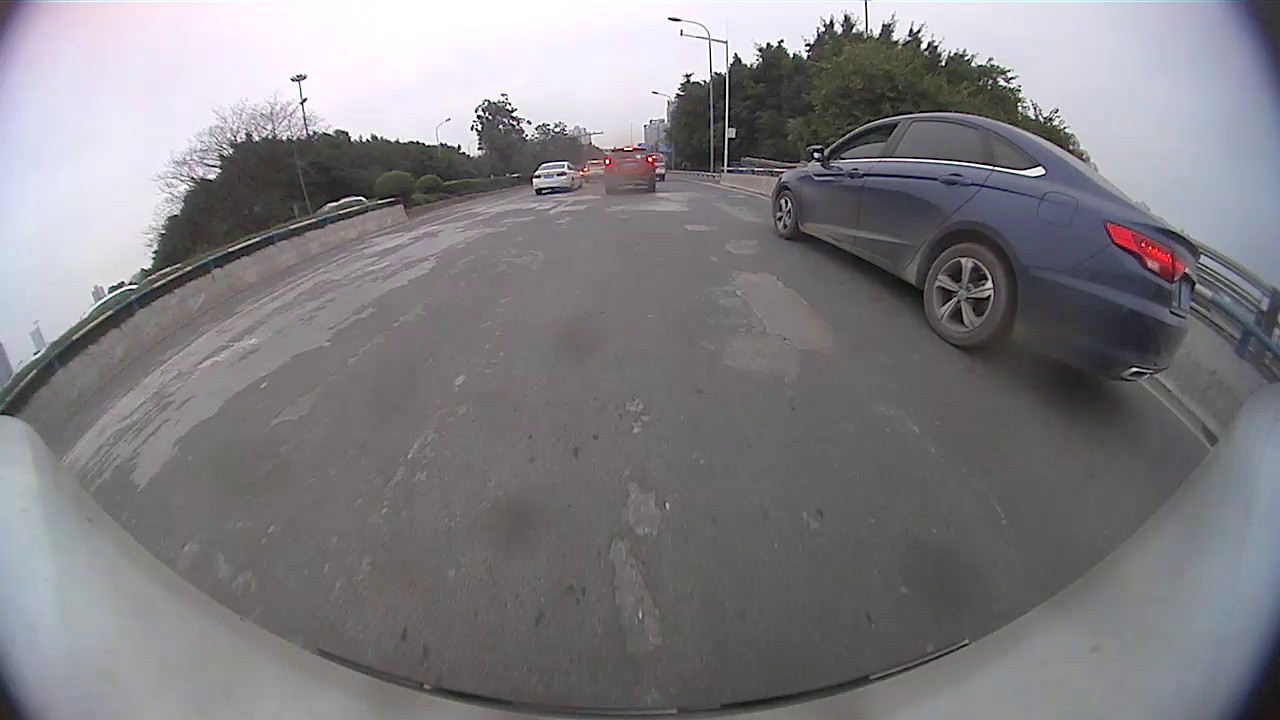car: (770, 110, 1202, 386), (601, 144, 658, 195), (531, 159, 585, 197)
front: (772, 188, 800, 239)
rear: (922, 243, 1010, 351)
